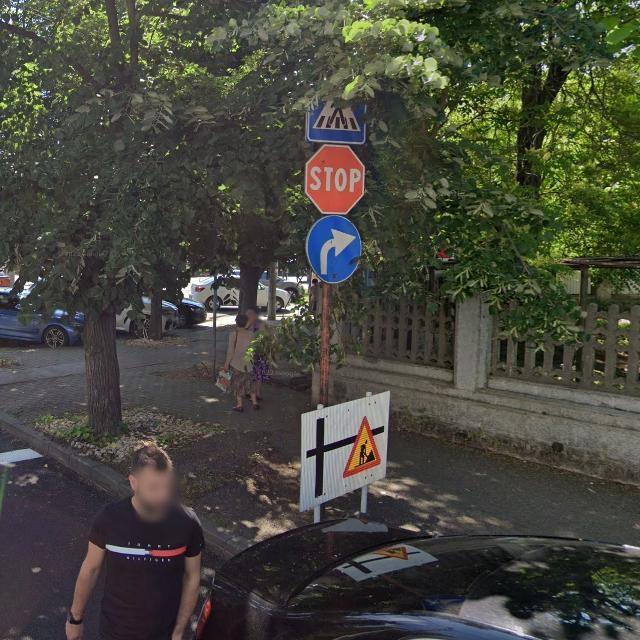info_crosswalk: (307, 84, 368, 144)
prio_stop: (303, 144, 368, 217)
